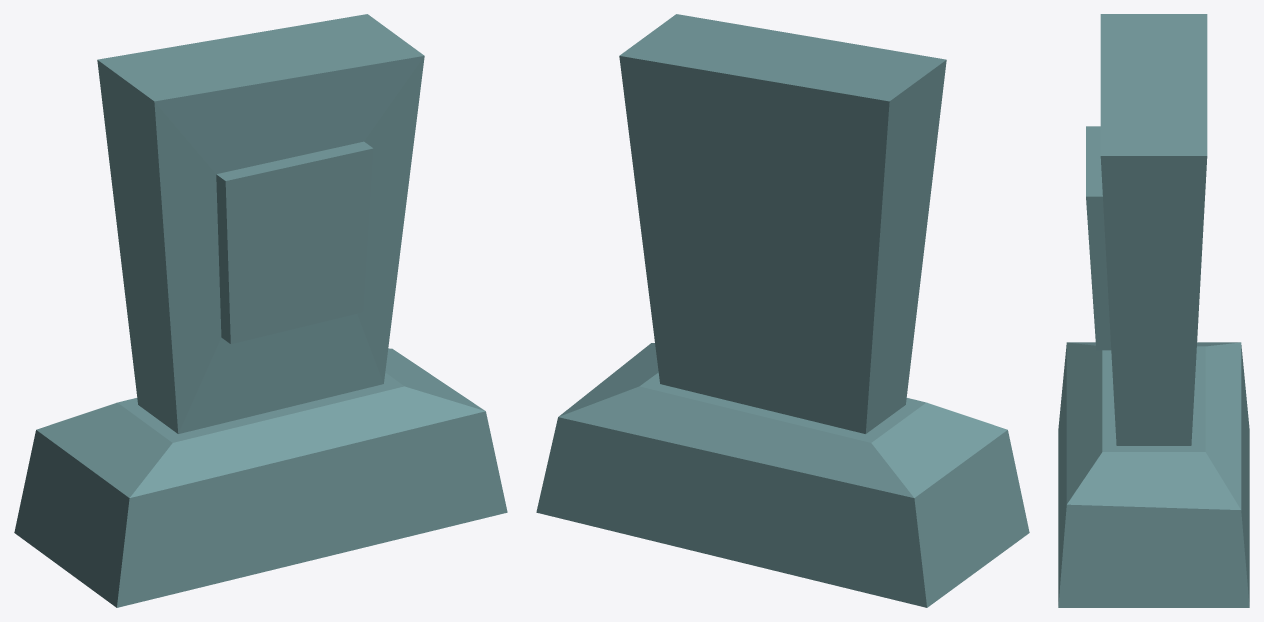
The model's file is Cementery_Tombstone8.fbx.
The picture shows the model from 3 angles, left to right: view 1: azimuth 30°, elevation 25°; view 2: azimuth 150°, elevation 25°; view 3: azimuth 270°, elevation 25°; orthographic projection. The views are drawn at different scales.
Parts seen in each view (by area): view 1: GraveStone_009; view 2: GraveStone_009; view 3: GraveStone_009.
Part boxes in pixels (x1=…): GraveStone_009: x1=14, y1=14, x2=507, y2=607; GraveStone_009: x1=536, y1=14, x2=1029, y2=607; GraveStone_009: x1=1058, y1=14, x2=1249, y2=607.
Size of the model in its own units: 39.51 by 45.9 by 17.95.
